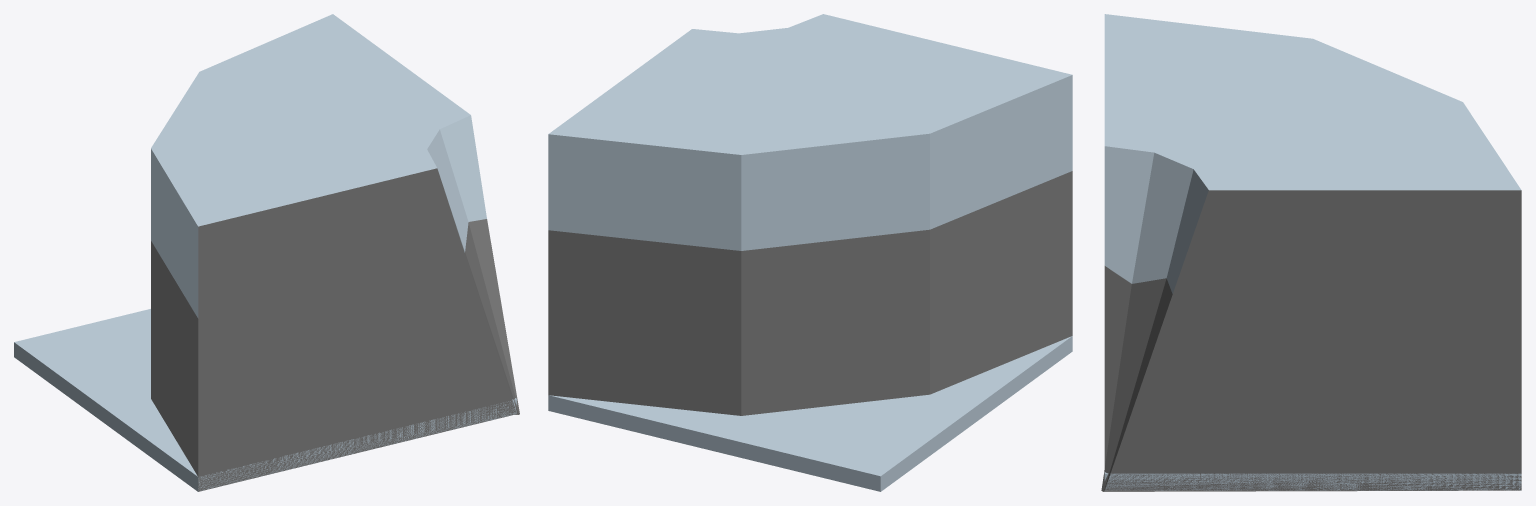
Rendered from world26.fbx.
3 views of the same model, side by side, from view 1: azimuth 30°, elevation 25°; view 2: azimuth 150°, elevation 25°; view 3: azimuth 270°, elevation 25° (orthographic). The views are drawn at different scales.
Parts seen in each view (by area): view 1: Cube.135, Cube.141; view 2: Cube.135, Cube.141; view 3: Cube.135, Cube.141.
Part boxes in pixels (box(x1,y1,x2,y2)): Cube.135: box(151, 14, 519, 491); Cube.141: box(14, 309, 516, 491); Cube.135: box(548, 14, 1072, 415); Cube.141: box(548, 336, 1072, 491); Cube.135: box(1101, 14, 1521, 491); Cube.141: box(1104, 472, 1521, 490).
Bounding box in the file's own units: 403 × 318 × 403.
